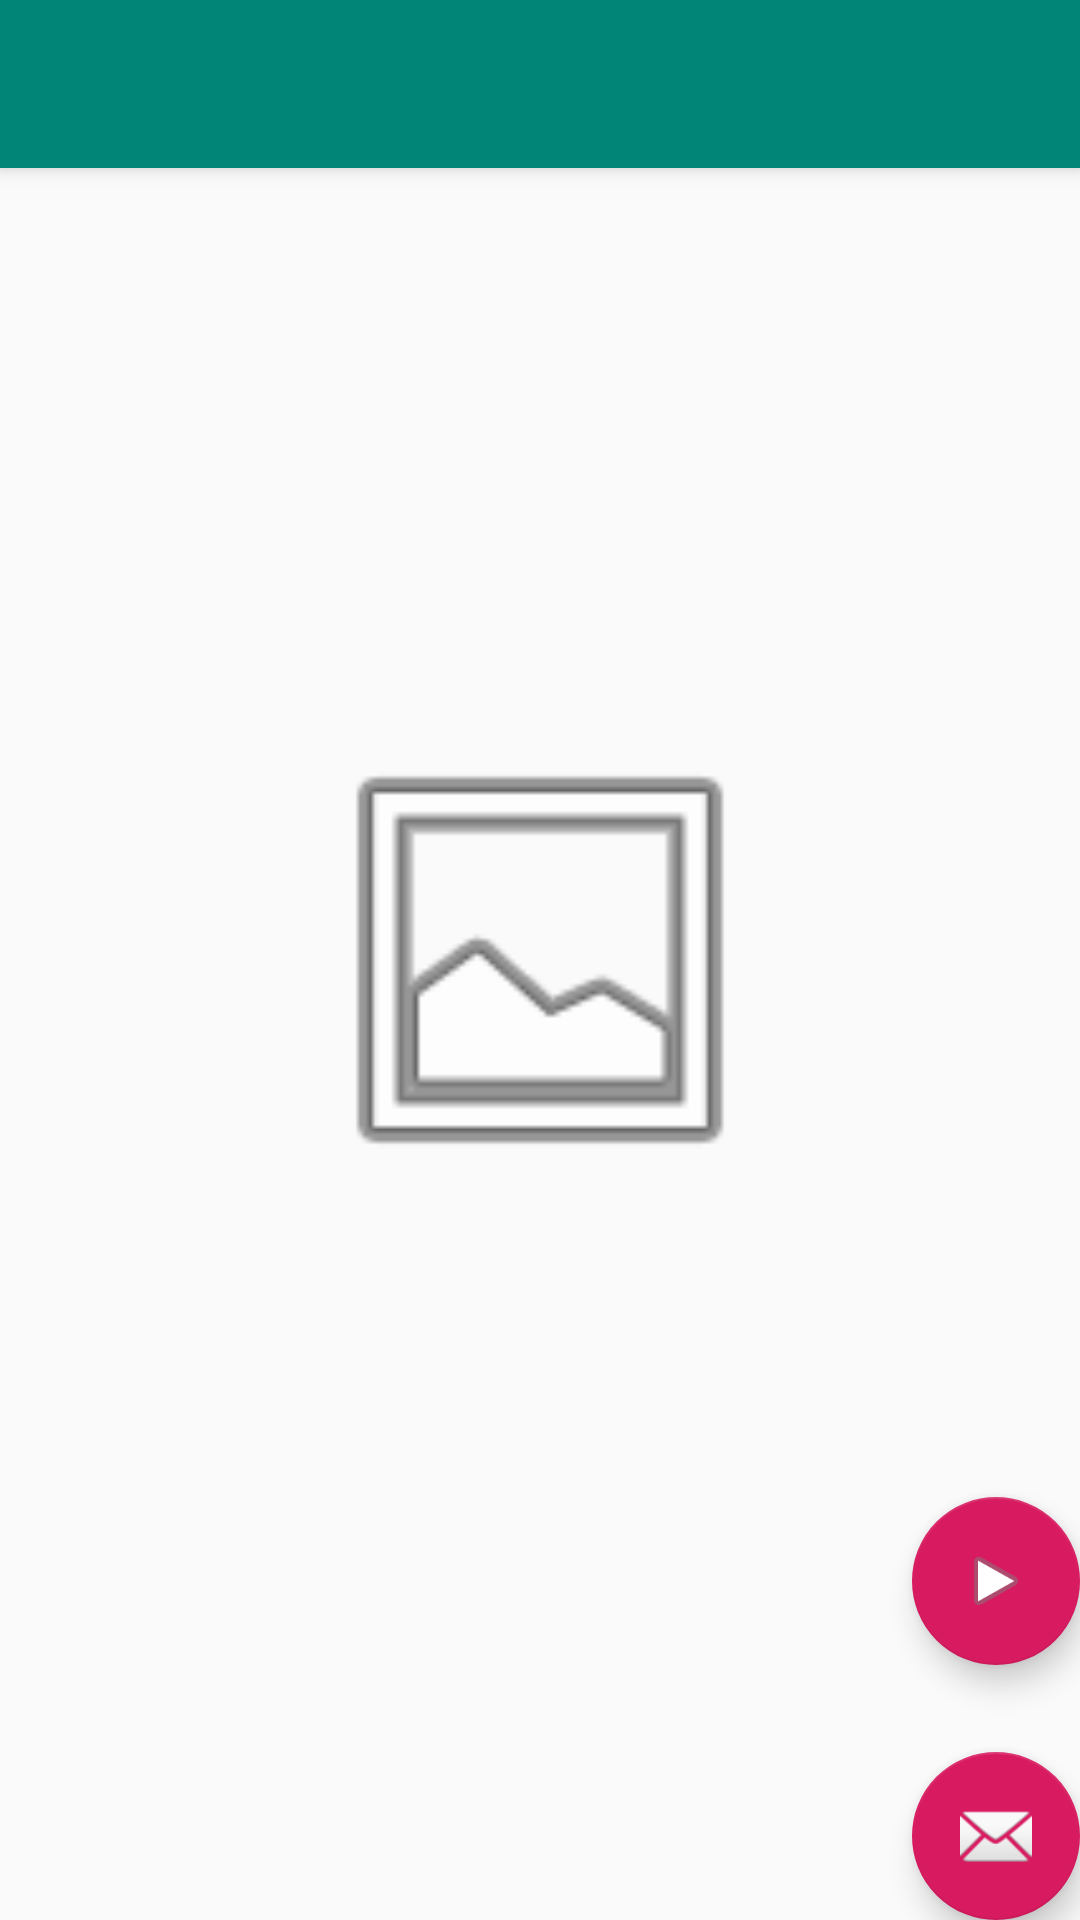

Where to tap for icons on this 1080 × 1920 app screen, as point (x, y):
email: point (996, 1836)
play: point (996, 1581)
